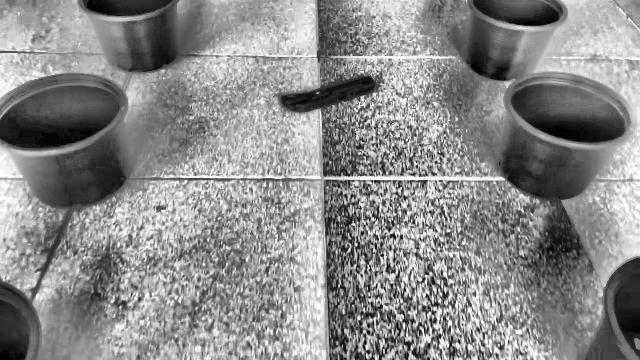pot: (498, 72, 639, 200), (0, 74, 131, 209)
